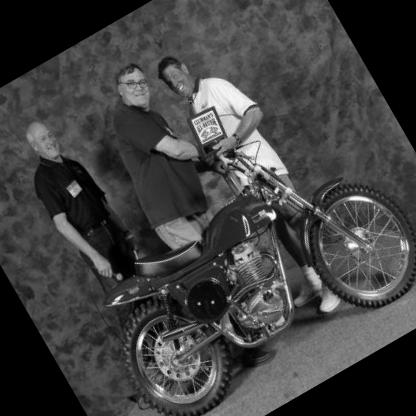moto: (63, 113, 416, 416)
